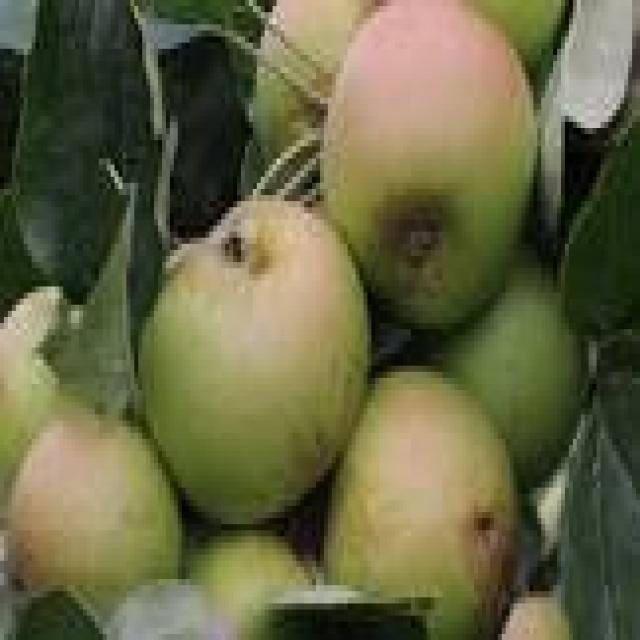Unripe: (141, 197, 371, 526)
